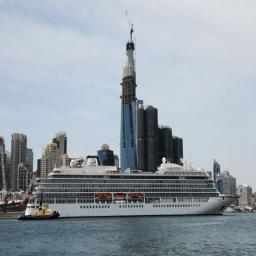cruises: (24, 156, 243, 220)
